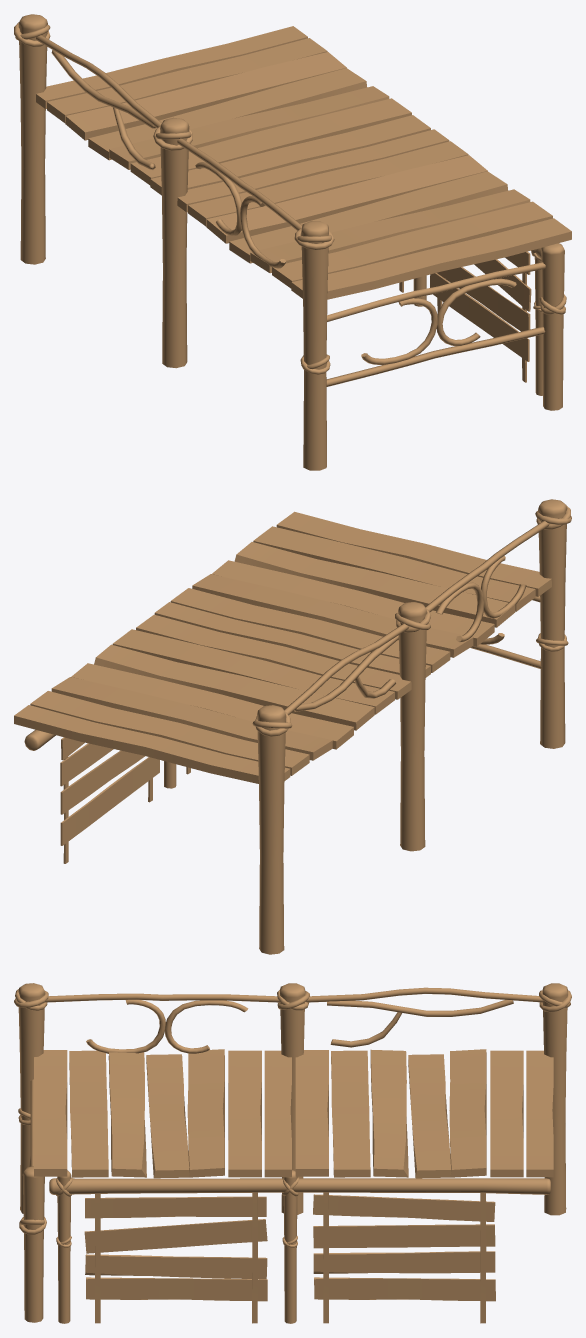
File: Medium Platform.fbx
The picture shows the model from 3 angles, top to bottom: view 1: azimuth 30°, elevation 25°; view 2: azimuth 150°, elevation 25°; view 3: azimuth 270°, elevation 25°; orthographic projection. The views are drawn at different scales.
Parts seen in each view (by area): view 1: plank4 (×2), plank (×2), plank1 (×2), plank3 (×2), plank5 (×2), plank2 (×2), plank6 (×2), scaf_support5, scaf_support, scaf_support1, scaf_support2, plank10 (+11 smaller); view 2: plank2 (×2), plank1 (×2), plank4 (×2), plank (×2), plank6 (×2), plank5 (×2), plank3 (×2), scaf_support5, scaf_support, scaf_support1, plank18, plank14 (+6 smaller); view 3: plank1 (×2), plank4 (×2), plank3 (×2), plank2 (×2), plank5 (×2), plank (×2), Scaf_frame2, plank6 (×2), plank8, plank15, scaf_support5, plank18 (+20 smaller).
Boxes of the visible parts, x1,y1,x2,y2 form: plank4 (×2): [65, 52, 487, 243]; plank (×2): [150, 115, 571, 299]; plank1 (×2): [130, 98, 552, 288]; plank3 (×2): [88, 68, 508, 263]; plank5 (×2): [47, 38, 468, 226]; plank2 (×2): [109, 86, 530, 273]; plank6 (×2): [36, 26, 449, 212]; scaf_support5: [18, 14, 47, 264]; scaf_support: [160, 117, 189, 368]; scaf_support1: [301, 221, 328, 470]; scaf_support2: [541, 243, 564, 410]; plank10: [430, 273, 529, 361]; plank2 (×2): [94, 542, 515, 730]; plank1 (×2): [112, 526, 535, 714]; plank4 (×2): [51, 574, 473, 760]; plank (×2): [136, 511, 551, 699]; plank6 (×2): [14, 602, 430, 783]; plank5 (×2): [30, 588, 450, 775]; plank3 (×2): [71, 560, 494, 749]; scaf_support5: [257, 705, 286, 954]; scaf_support: [398, 602, 427, 851]; scaf_support1: [538, 499, 567, 748]; plank18: [60, 757, 159, 845]; plank14: [60, 750, 144, 814]; plank1 (×2): [69, 1050, 370, 1177]; plank4 (×2): [187, 1049, 486, 1177]; plank3 (×2): [146, 1054, 451, 1178]; plank2 (×2): [108, 1049, 408, 1177]; plank5 (×2): [228, 1050, 523, 1177]; plank (×2): [34, 1050, 328, 1176]; Scaf_frame2: [49, 1178, 550, 1194]; plank6 (×2): [264, 1050, 553, 1177]; plank8: [84, 1219, 267, 1253]; plank15: [313, 1224, 495, 1248]; scaf_support5: [542, 983, 567, 1215]; plank18: [314, 1277, 495, 1301].
Bounding box in the file's own units: 2.66 × 2.22 × 4.98.
